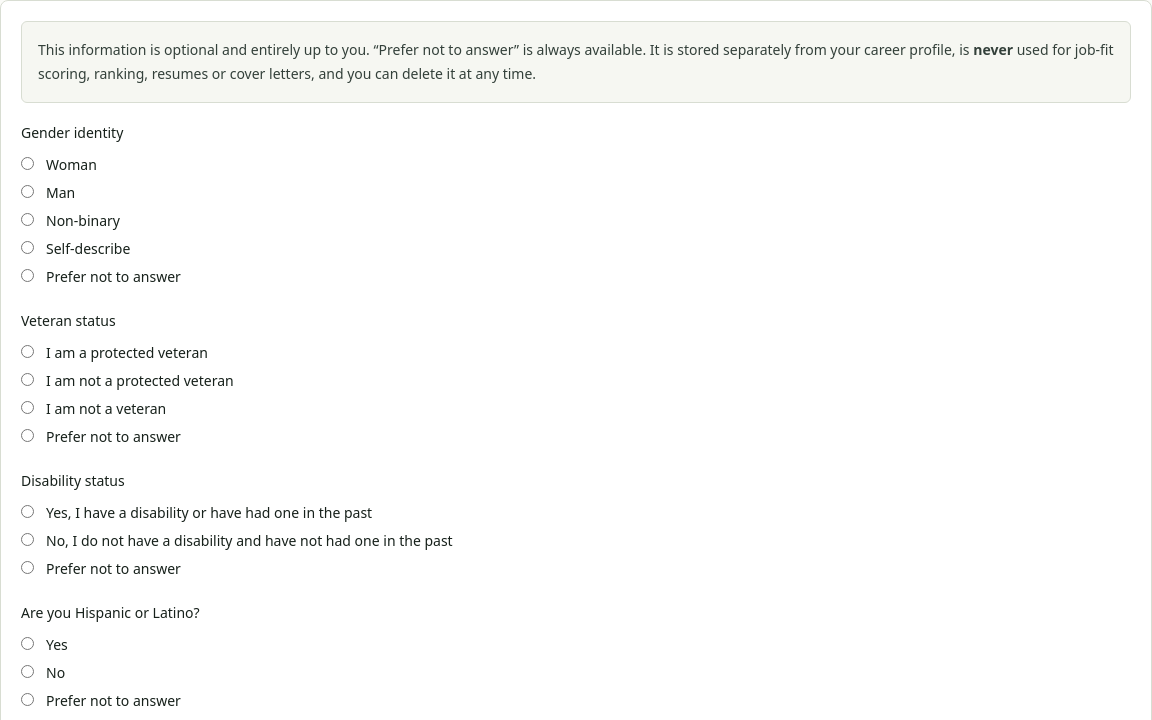
Test case: DemographicsForm › refuses to save answers without consent, and sends no request
This screenshot has width=1152, height=720.
What coordinates should you click on to do the following:
click the radio button labelled "Woman"
I would click on:
 (28, 164)
Its box is top-left (21, 157), bottom-right (34, 170).
(page scrolled)
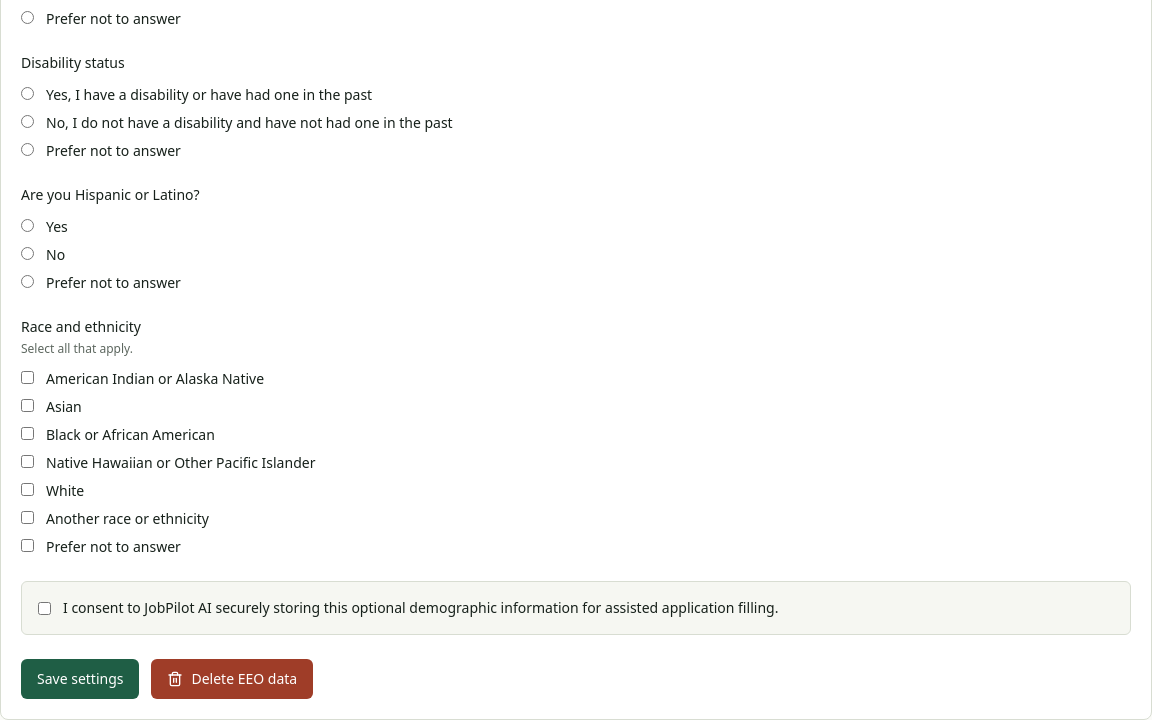
What coordinates should you click on to do the following:
click the button "Save settings"
I would click on:
 (80, 679)
Its box is top-left (21, 659), bottom-right (140, 699).
(page scrolled)
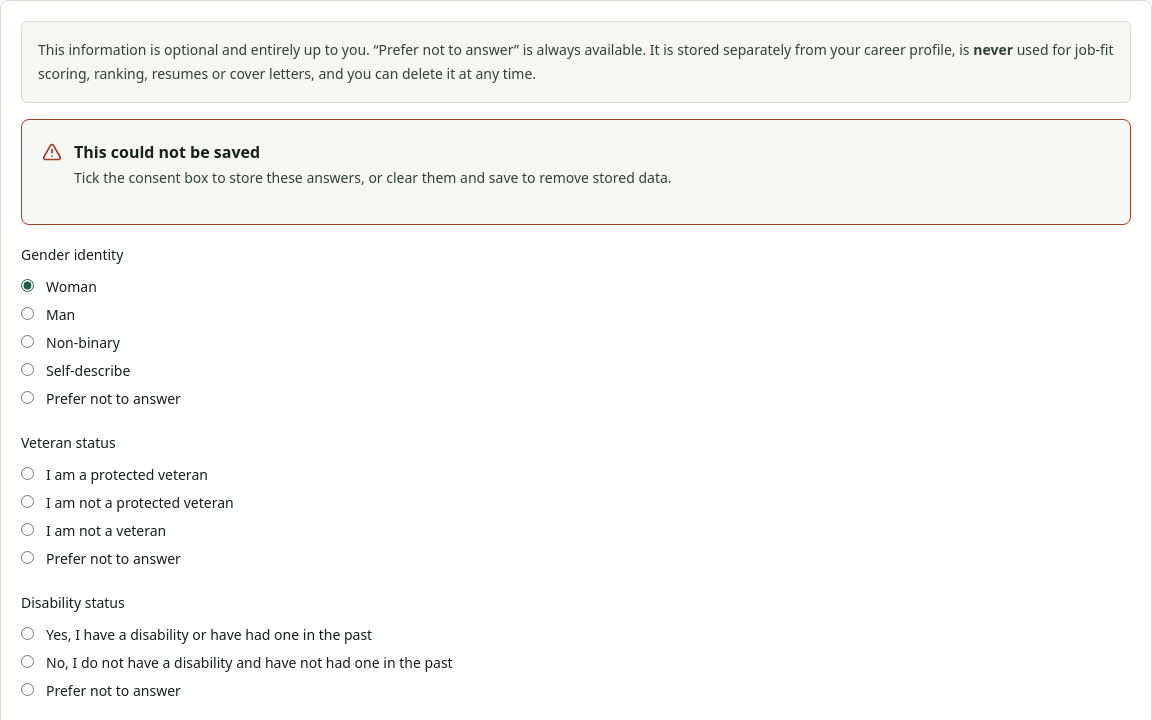
Check: the message with test id "section-error" is shown, box top-left (21, 119), bottom-right (1131, 225)
